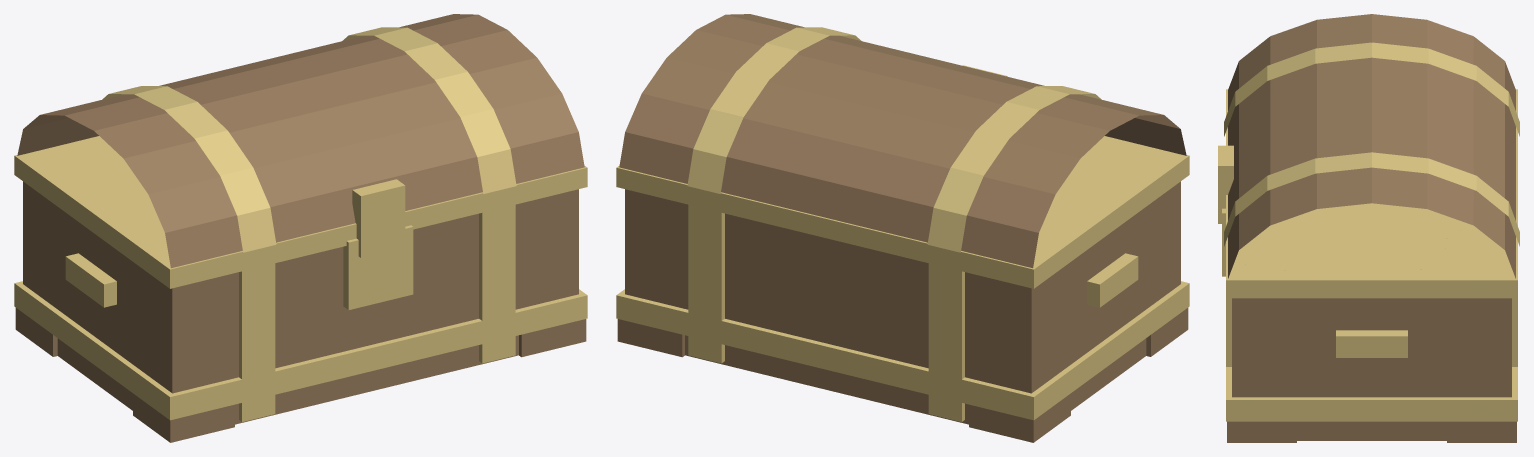
The model's file is mine_chest.glb.
3 renders of one model, left to right at view 1: azimuth 30°, elevation 25°; view 2: azimuth 150°, elevation 25°; view 3: azimuth 270°, elevation 25°, orthographic. The views are drawn at different scales.
Parts seen in each view (by area): view 1: Chest_Lid, Chest_Base, Chest_Base_Hardware, Chest_Lid_Hardware; view 2: Chest_Lid, Chest_Base, Chest_Base_Hardware, Chest_Lid_Hardware; view 3: Chest_Lid, Chest_Base_Hardware, Chest_Base, Chest_Lid_Hardware.
Part boxes in pixels (x1,y1,x2,y2): Chest_Lid: [17, 14, 584, 268]; Chest_Base: [15, 181, 586, 442]; Chest_Base_Hardware: [14, 136, 587, 421]; Chest_Lid_Hardware: [102, 27, 516, 257]; Chest_Lid: [619, 14, 1186, 268]; Chest_Base: [617, 181, 1188, 442]; Chest_Base_Hardware: [616, 136, 1189, 421]; Chest_Lid_Hardware: [687, 27, 1101, 252]; Chest_Lid: [1228, 14, 1515, 278]; Chest_Base_Hardware: [1222, 89, 1517, 421]; Chest_Base: [1227, 298, 1516, 442]; Chest_Lid_Hardware: [1218, 42, 1519, 246].
Size of the model in its own units: 2.34 by 1.34 by 1.51.
